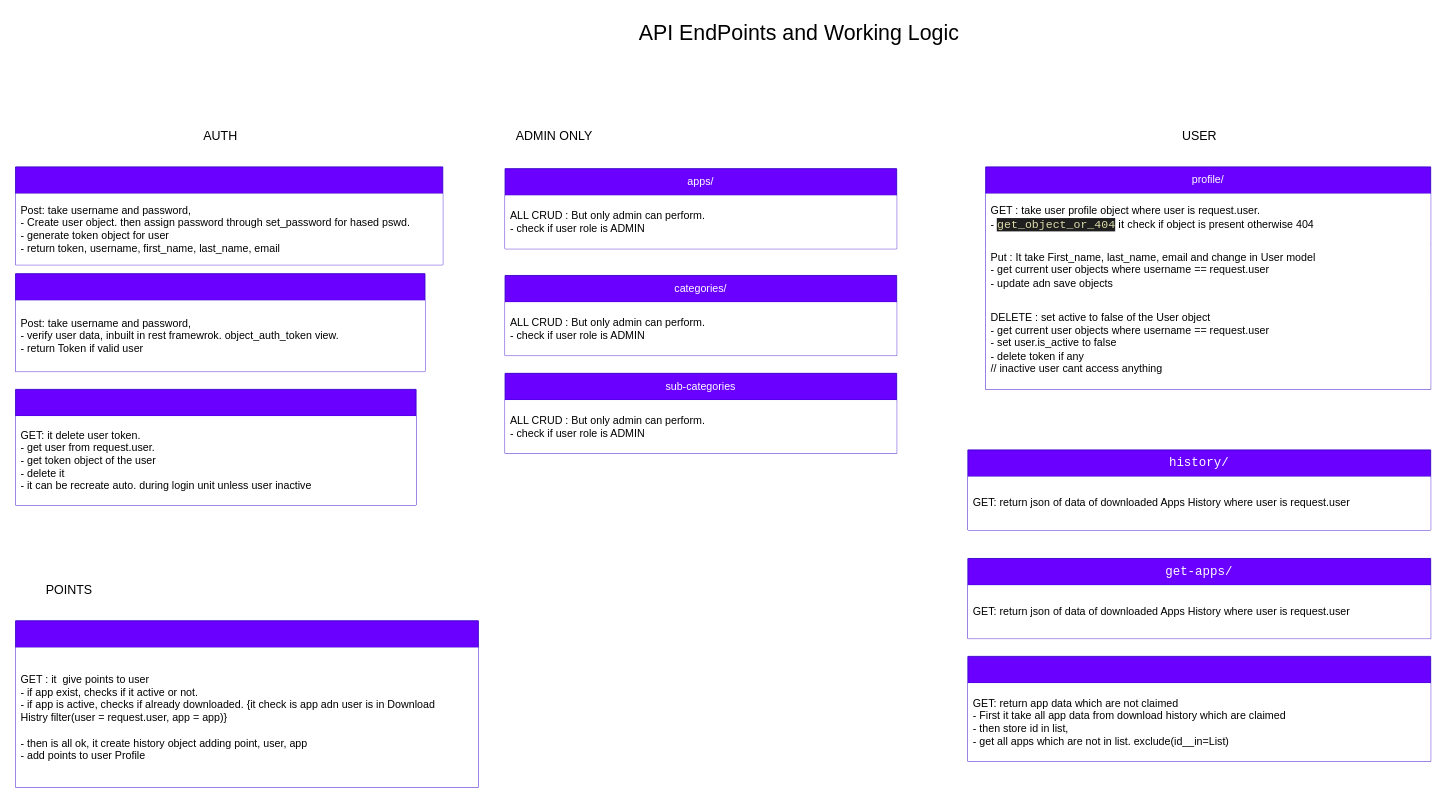
The diagram is 1446 pixels wide and 803 high, and some of its shapes have lost their labels. Here are the shapes that lost their labels. From the top down, the box of each, then its label:
(15, 166, 443, 265): register/
(15, 273, 425, 372): login/
(15, 388, 416, 505): logout/
(15, 620, 478, 787): download/<int:app_id>/
(967, 655, 1431, 761): get-apps/?not-claimed=true/
